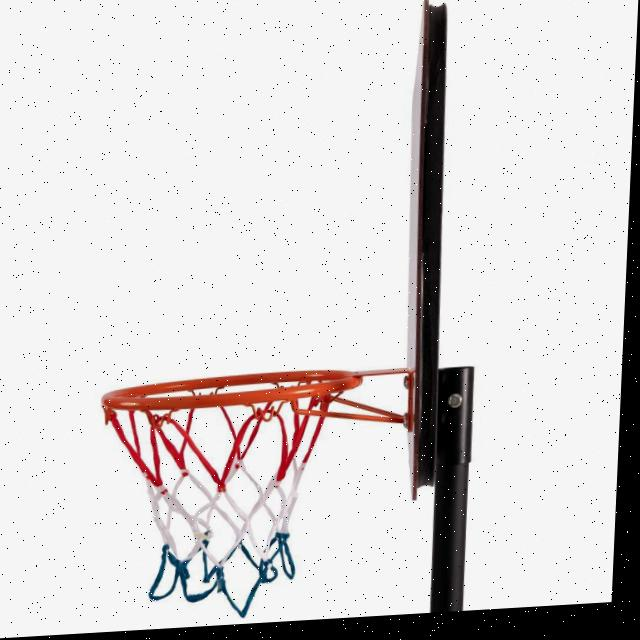hoop: (92, 366, 363, 626)
